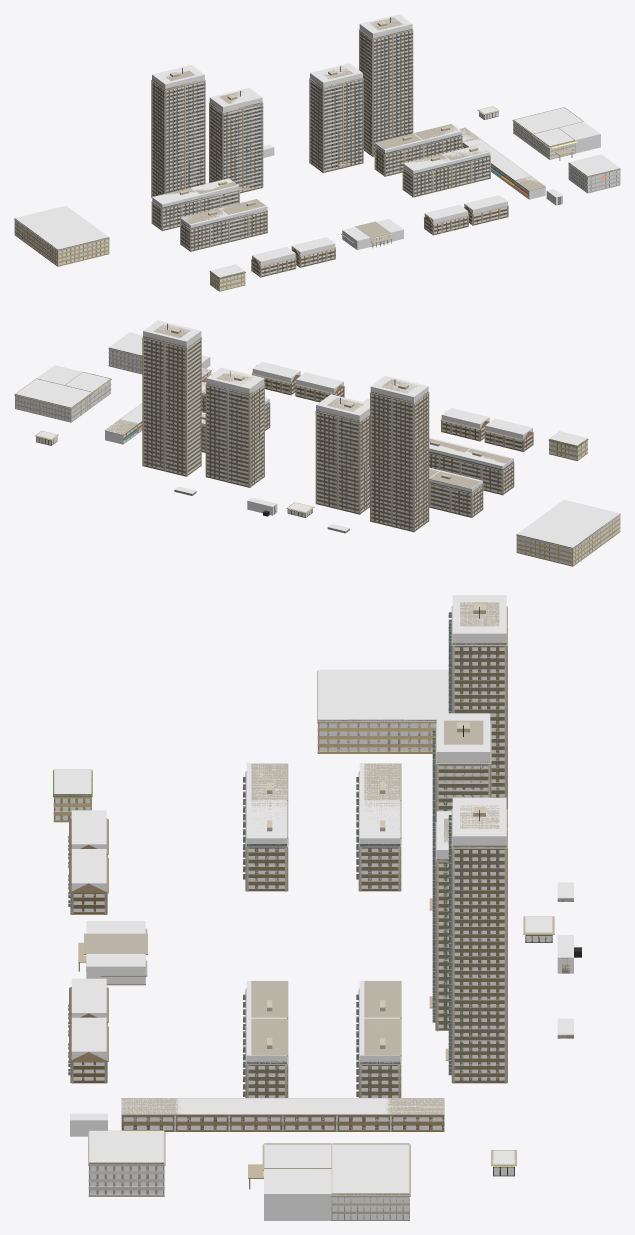
Rendered from buildings.glb.
3 views of the same model, one above another, from view 1: azimuth 30°, elevation 25°; view 2: azimuth 150°, elevation 25°; view 3: azimuth 270°, elevation 25° (orthographic). The views are drawn at different scales.
Visible parts, largest first — view 1: B01_body, B04_body, B03_body, B02_body, B01_hull, SC01_hull, B04_hull, B03_hull, B02_hull, ML01_hull, B07_body, SC01_body (+32 smaller); view 2: B01_body, B04_body, B03_body, B04_hull, B02_body, B01_hull, SC01_hull, B03_hull, B02_hull, ML01_hull, B05_body, SC01_body (+21 smaller); view 3: B04_body, ML01_hull, SC01_hull, B04_hull, SH01_hull, SH01_body, B01_body, B01_hull, HP01_hull, B02_body, B02_hull, B12_body (+27 smaller).
Part boxes in pixels (x1,y1,x2,y2): B01_body: (151, 68, 205, 197); B04_body: (358, 17, 413, 156); B03_body: (309, 66, 363, 173); B02_body: (209, 91, 263, 193); B01_hull: (152, 65, 204, 196); SC01_hull: (14, 205, 108, 265); B04_hull: (359, 14, 412, 154); B03_hull: (310, 63, 362, 171); B02_hull: (209, 88, 262, 191); ML01_hull: (513, 107, 600, 159); B07_body: (180, 208, 229, 251); SC01_body: (14, 218, 109, 266); B01_body: (370, 379, 429, 532); B04_body: (142, 323, 201, 476); B03_body: (205, 371, 265, 487); B04_hull: (143, 320, 201, 474); B02_body: (315, 397, 369, 514); B01_hull: (370, 375, 428, 530); SC01_hull: (516, 499, 620, 565); B03_hull: (206, 367, 264, 485); B02_hull: (316, 394, 369, 512); ML01_hull: (15, 365, 110, 421); B05_body: (429, 471, 483, 517); SC01_body: (516, 514, 620, 566); B04_body: (445, 805, 507, 1083); ML01_hull: (264, 1144, 409, 1220); SC01_hull: (318, 669, 448, 751); B04_hull: (452, 797, 506, 1080); SH01_hull: (121, 1098, 444, 1131); SH01_body: (121, 1098, 444, 1131); B01_body: (448, 602, 507, 809); B01_hull: (452, 595, 506, 797); HP01_hull: (89, 1130, 164, 1194); B02_body: (429, 720, 491, 910); B02_hull: (436, 713, 490, 811); B12_body: (243, 1018, 288, 1097).
Size of the model in its own units: 455 by 106 by 196.
